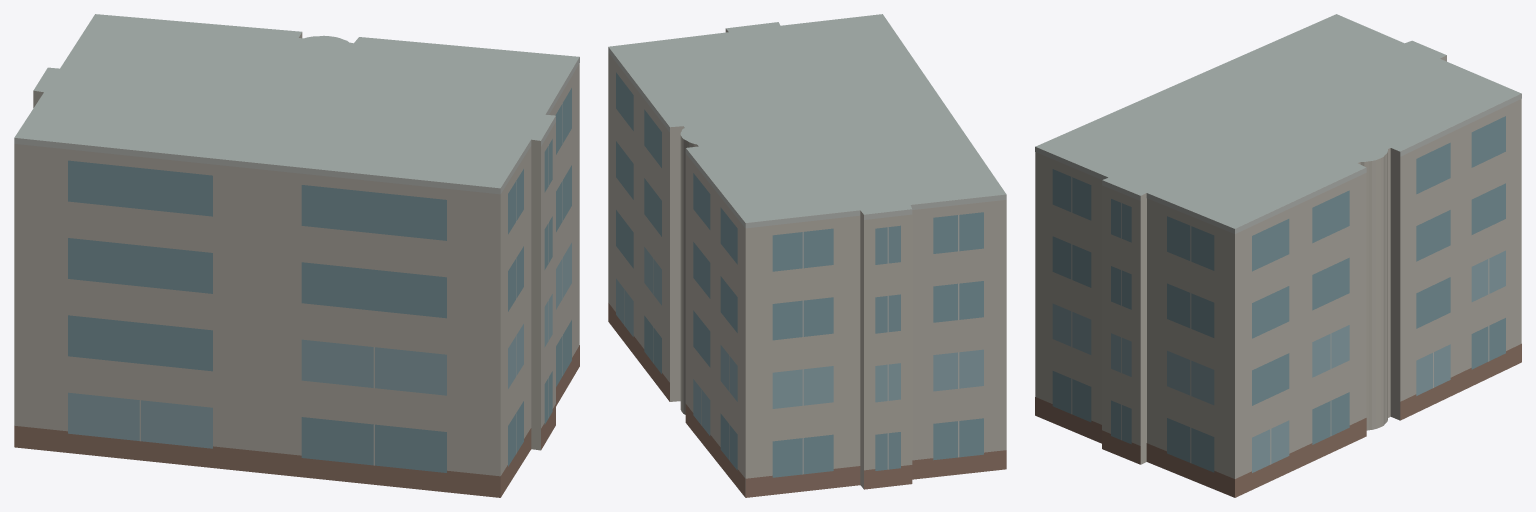
Rendered from survey-upis-32498198.glb.
The picture shows the model from 3 angles, left to right: view 1: azimuth 30°, elevation 25°; view 2: azimuth 150°, elevation 25°; view 3: azimuth 270°, elevation 25°; orthographic projection. The views are drawn at different scales.
Visible parts, largest first — view 1: survey-upis-32498198.tmp; view 2: survey-upis-32498198.tmp; view 3: survey-upis-32498198.tmp.
Part boxes in pixels (left/top/right/bottom): survey-upis-32498198.tmp: left=14, top=14, right=579, bottom=497; survey-upis-32498198.tmp: left=608, top=14, right=1006, bottom=497; survey-upis-32498198.tmp: left=1035, top=14, right=1521, bottom=497.
Bounding box in the file's own units: 21.61 × 12.6 × 20.67.
